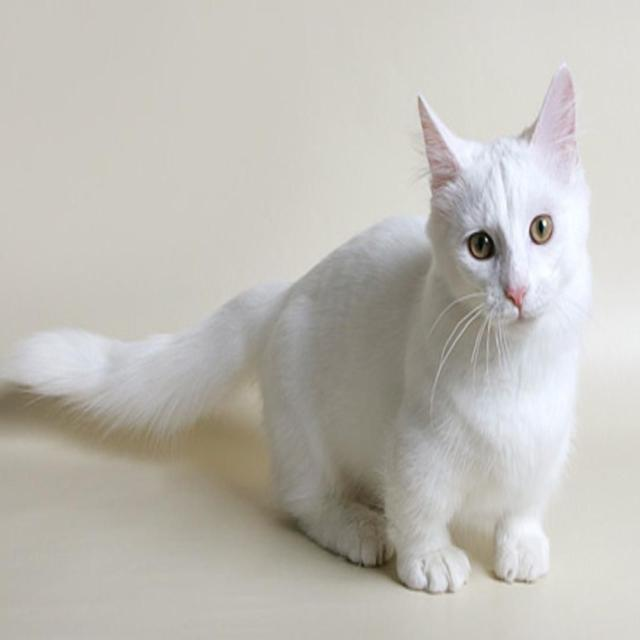Munchkin: (0, 59, 596, 603)
